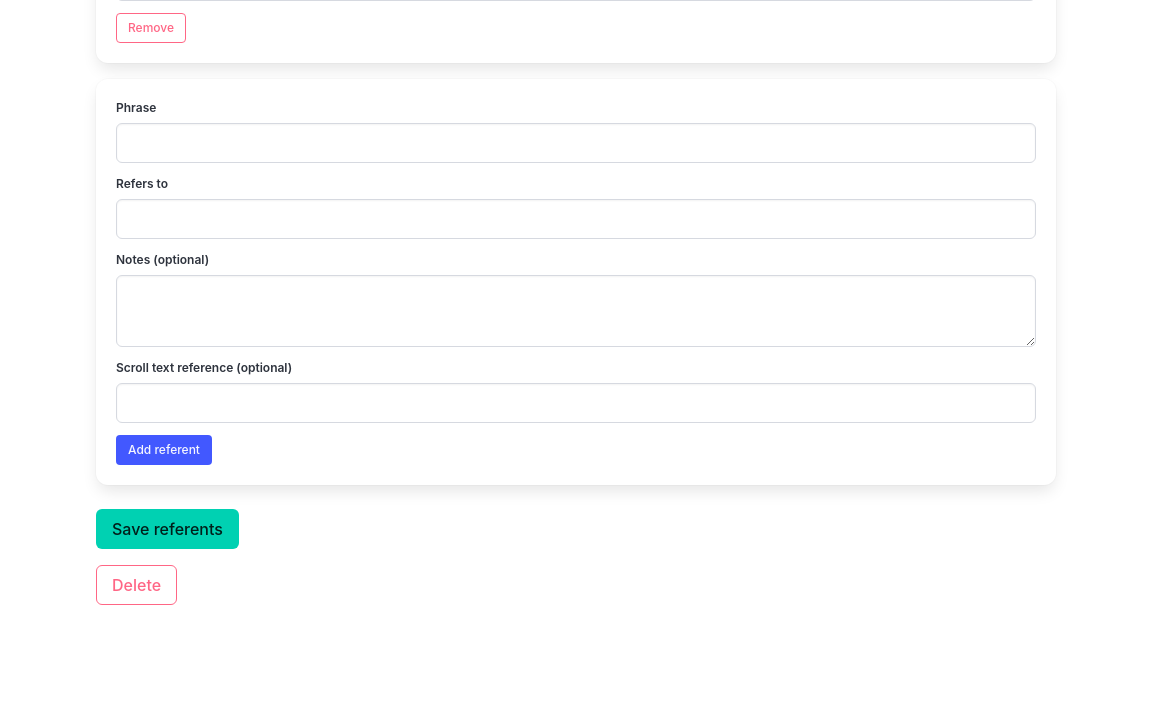
it: BookStudyDetailComponent › keeps the working list and shows an error when a save fails
(page scrolled)
What coordinates should you click on to do the following:
click the button with test id "save-referents-button"
I would click on:
 (167, 529)
Its box is [96,509,239,549].
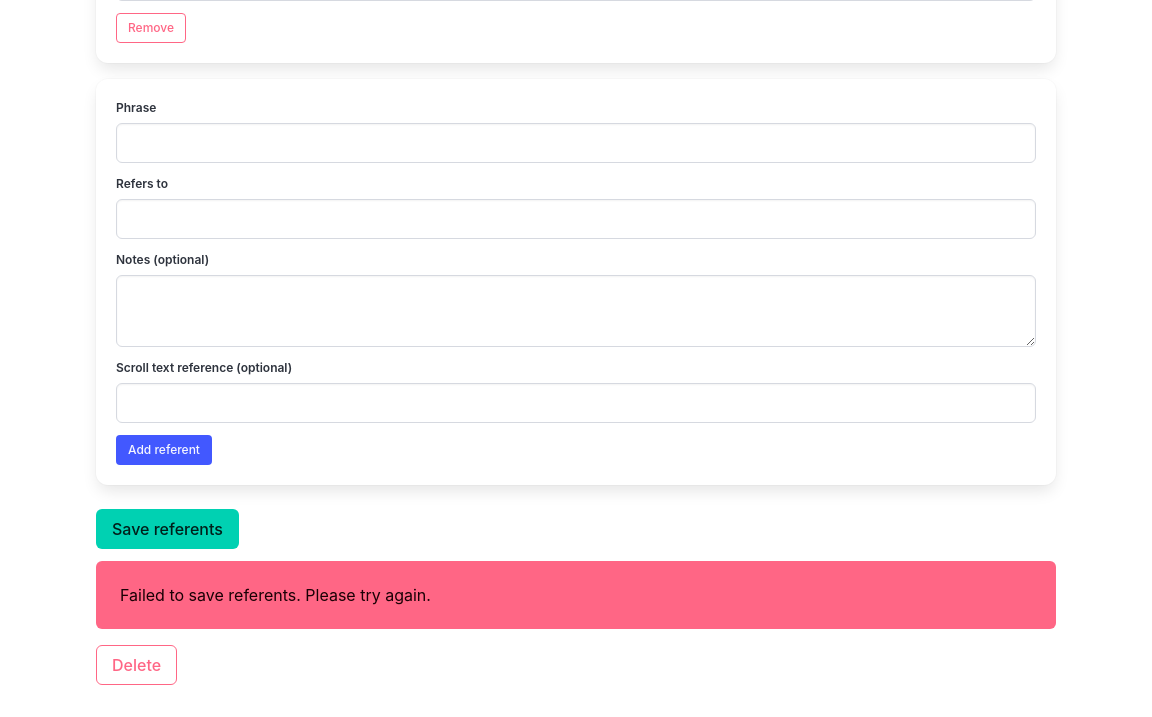
Now the message "Failed to save referents. Please try again." is shown, box [96,561,1056,629]
